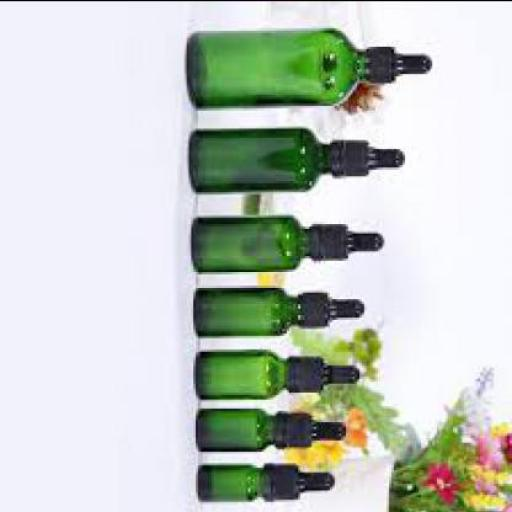glass: (189, 27, 371, 105), (189, 125, 330, 189), (192, 214, 310, 268), (194, 287, 300, 335), (196, 348, 286, 396), (196, 405, 278, 448), (198, 462, 266, 498)
plastic: (332, 136, 408, 175), (264, 459, 337, 499), (310, 220, 387, 255), (302, 288, 369, 326), (280, 409, 348, 444), (371, 43, 435, 80), (291, 355, 363, 387)
